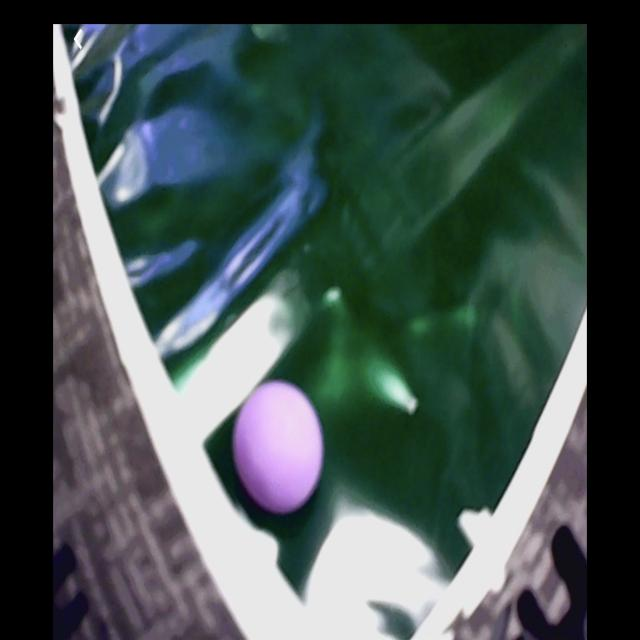ball: (234, 382, 322, 514)
